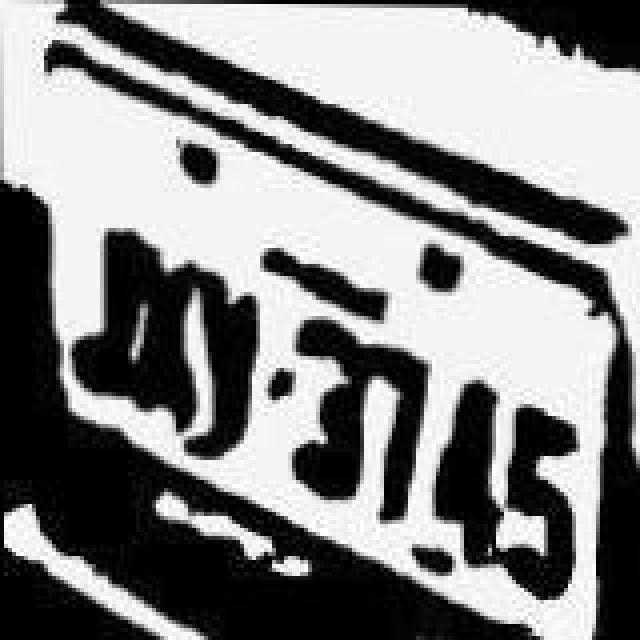3: (294, 322, 366, 518)
4: (434, 342, 498, 566)
5: (498, 364, 578, 608)
7: (366, 330, 430, 534)
J: (68, 230, 128, 398)
V: (200, 260, 260, 464)
X: (136, 244, 196, 432)
